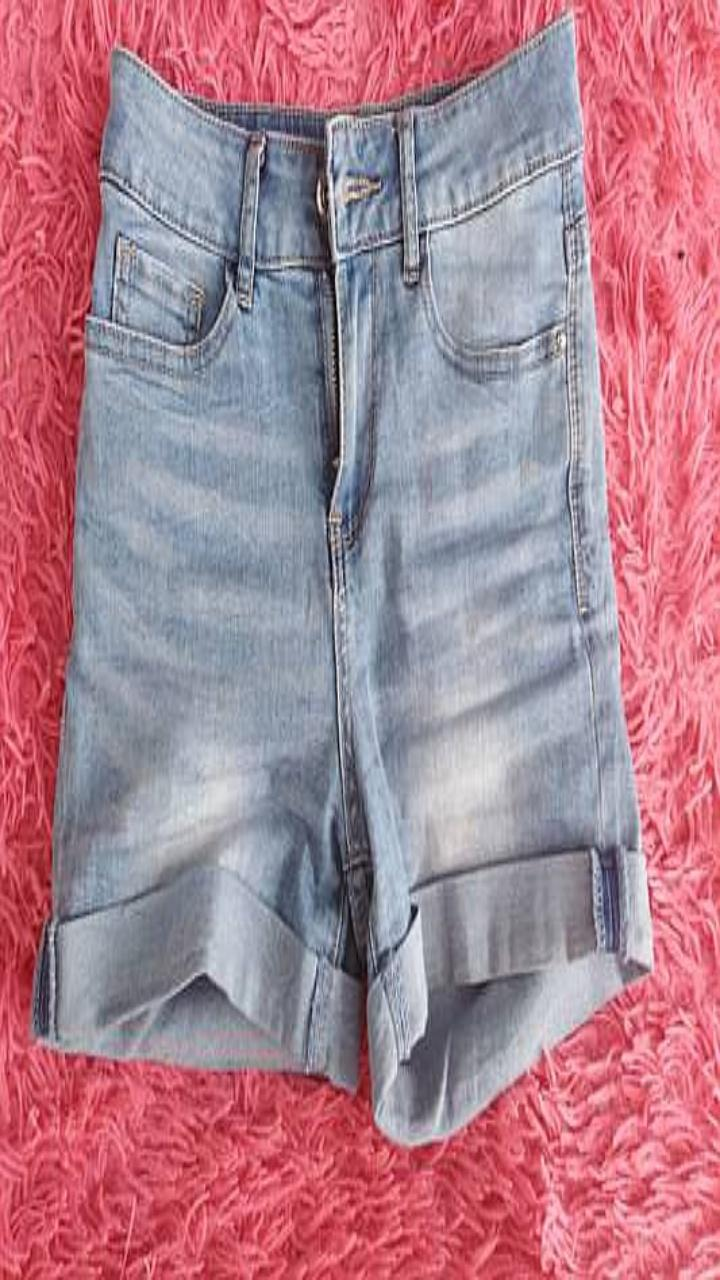Shorts: (31, 12, 652, 1144)
